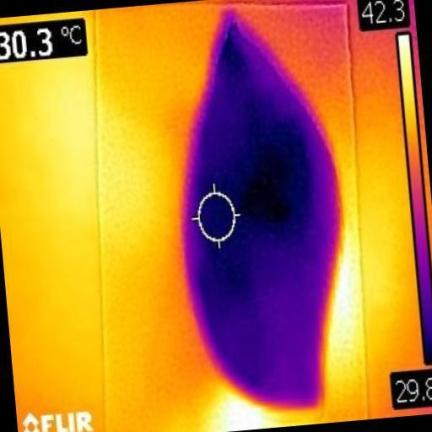mango: (183, 18, 337, 408)
